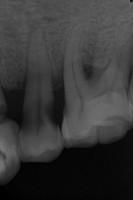Endo-Periodontal Lesion: (82, 58, 112, 83)
